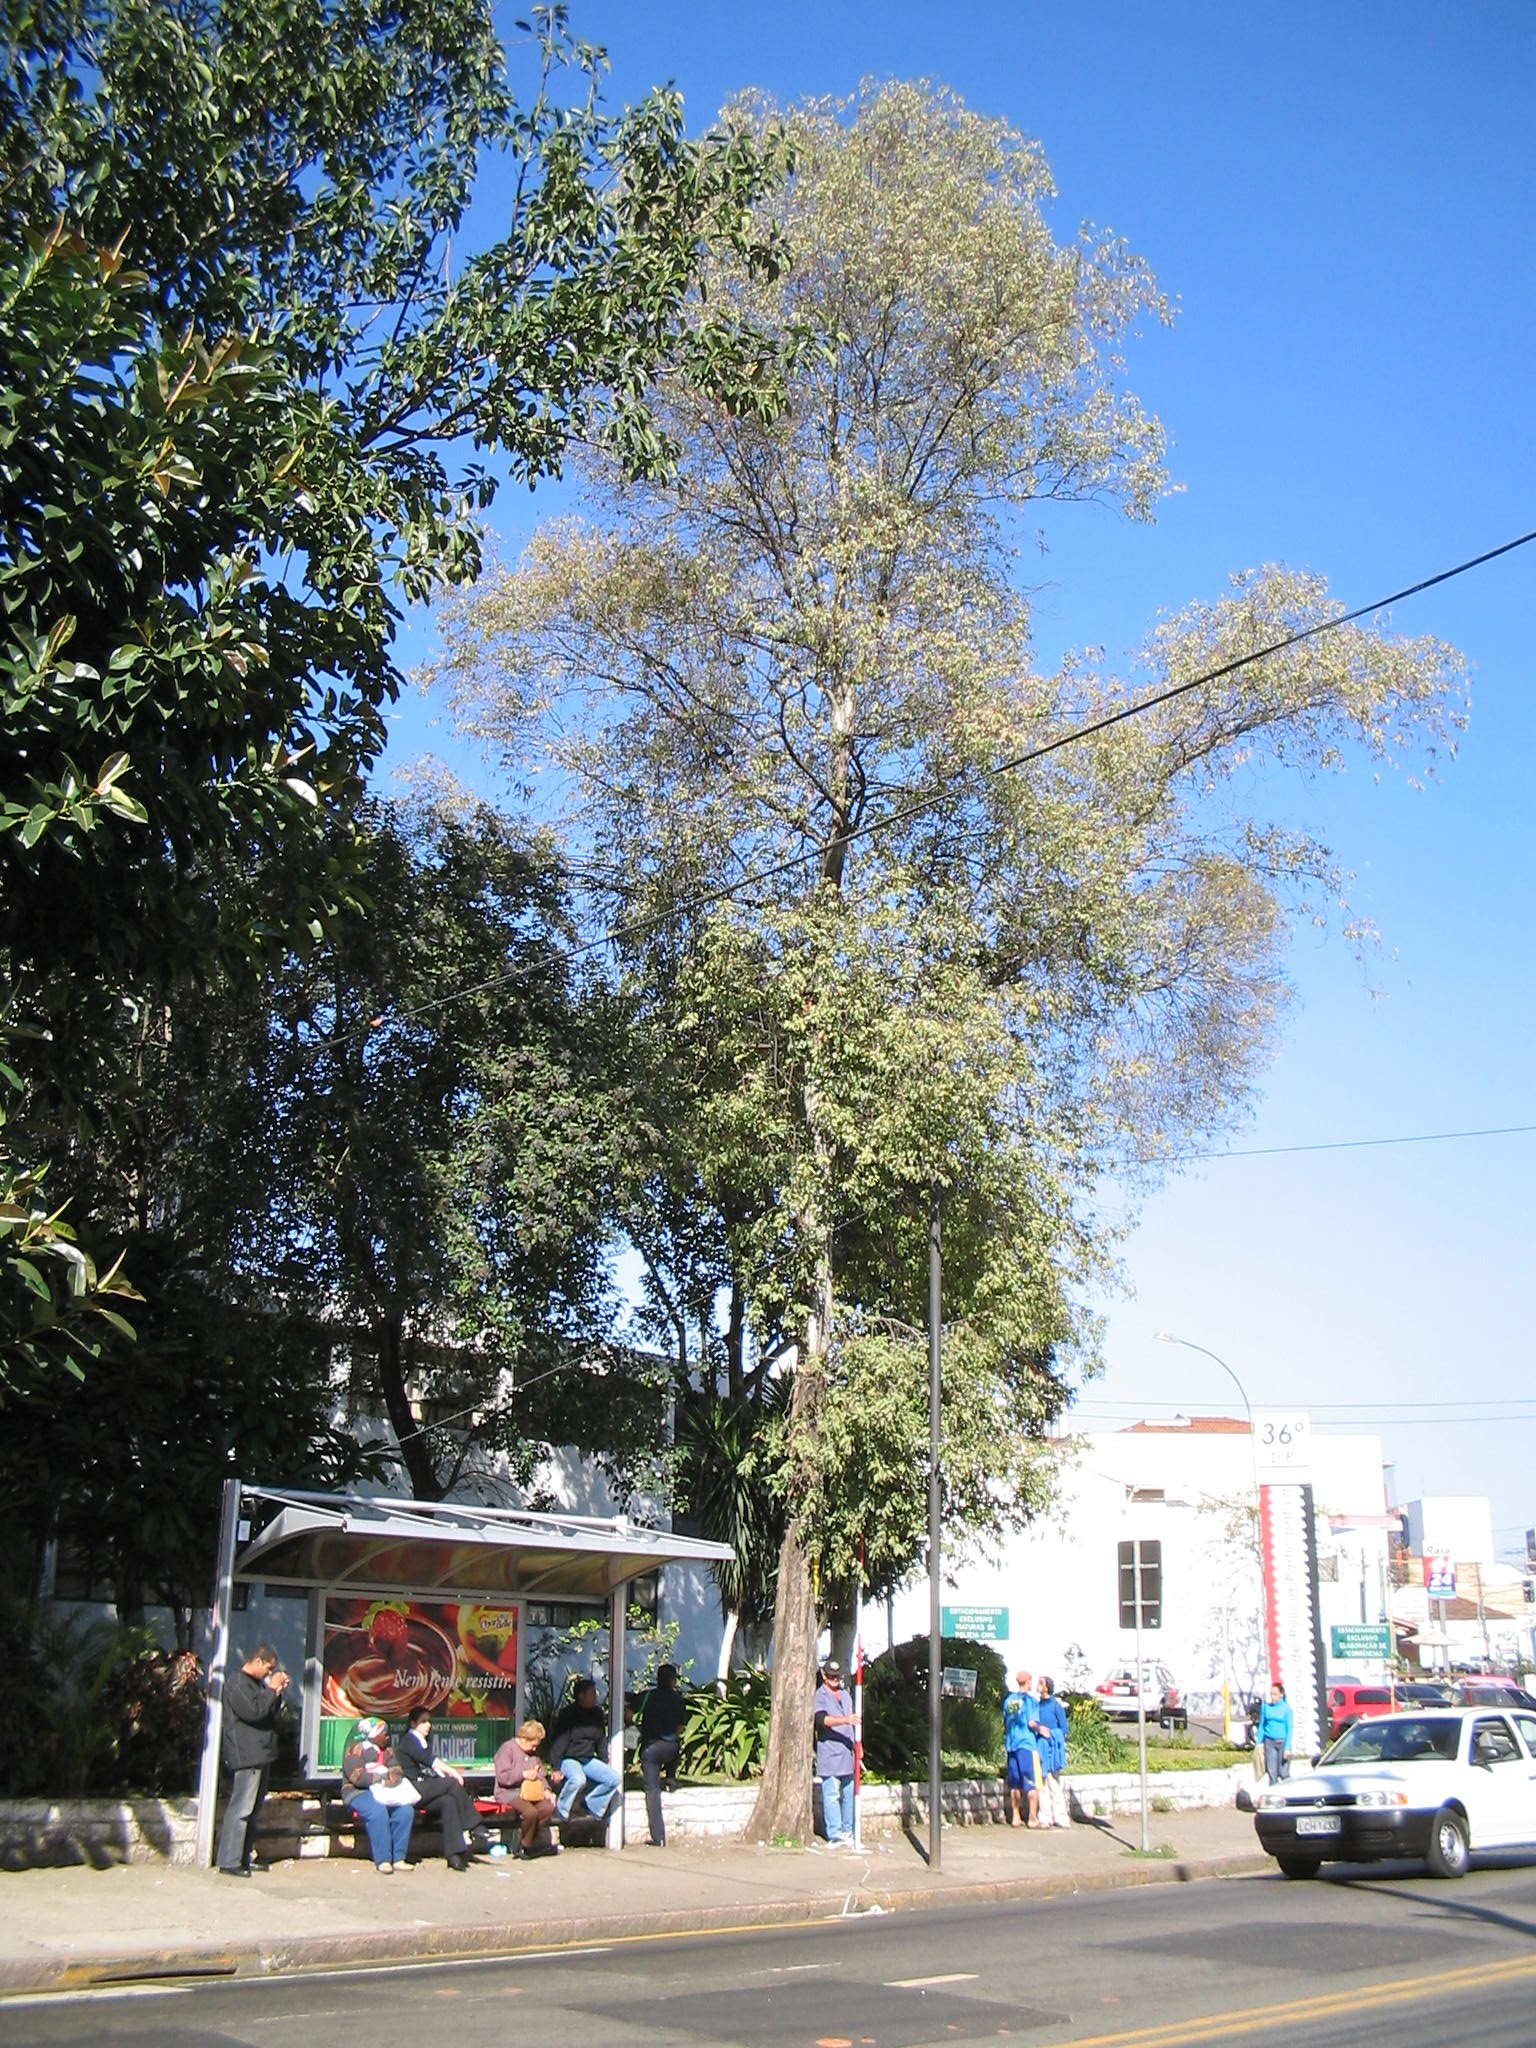crown: (428, 66, 1463, 1503)
stem: (741, 1550, 836, 1850)
stick: (836, 1511, 881, 1854)
tree: (415, 63, 1468, 1850)
